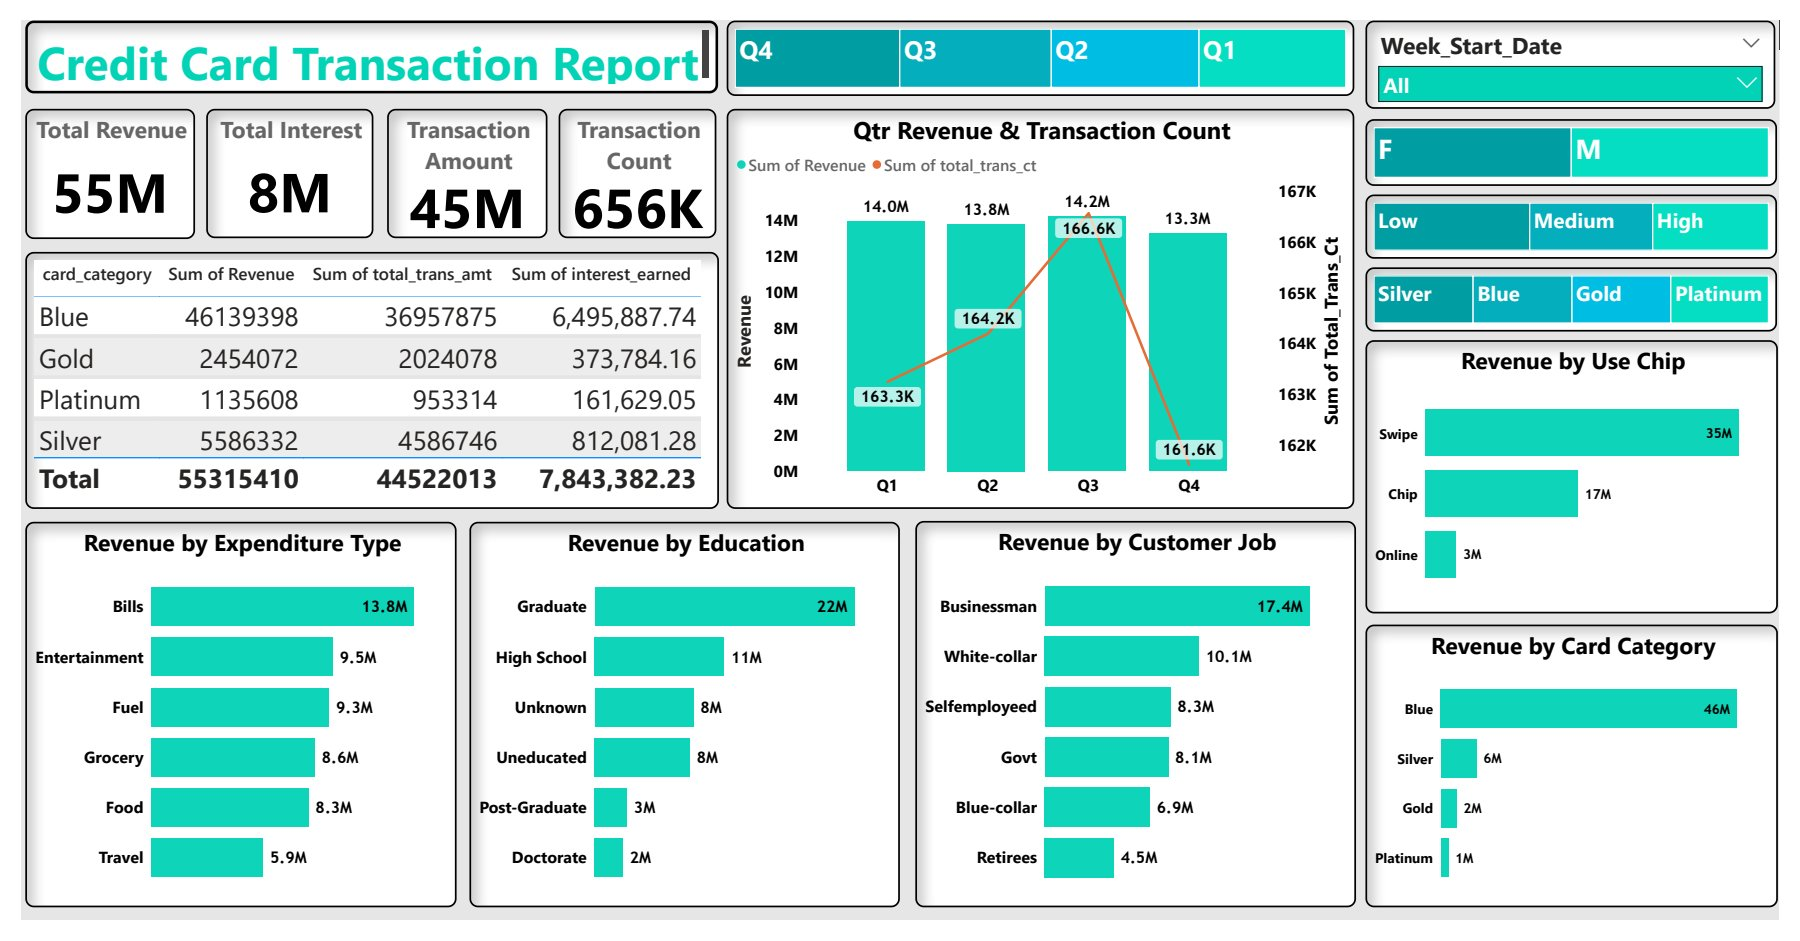

This screenshot's page, from the dashboard's own definition file:
{"tool":"powerbi","page":{"name":"Credit Card Transaction Report","canvas":[2050,1050],"ordinal":0},"visuals":[{"type":"textbox","box":[5,0,807.5,85],"z":0},{"type":"lineStackedColumnComboChart","title":"Qtr Revenue & Transaction Count","fields":{"Category":["public cc_detail.qtr"],"Y":["Sum(public cc_detail.Revenue)"],"Y2":["Sum(public cc_detail.total_trans_ct)"]},"box":[822.5,102.5,732.5,467.5],"z":1000},{"type":"barChart","title":"Revenue by Expenditure Type","fields":{"Y":["Sum(public cc_detail.Revenue)"],"Category":["public cc_detail.exp_type"]},"box":[5,585,502.5,450],"z":2000},{"type":"barChart","title":"Revenue by Education","fields":{"Y":["Sum(public cc_detail.Revenue)"],"Category":["public cust_detail.education_level"]},"box":[522.5,585,502.5,450],"z":3000},{"type":"barChart","title":"Revenue by Customer Job","fields":{"Y":["Sum(public cc_detail.Revenue)"],"Category":["public cust_detail.customer_job"]},"box":[1043.2,583.8,513.5,451.4],"z":4000},{"type":"barChart","title":"Revenue by Card Category","fields":{"Y":["Sum(public cc_detail.Revenue)"],"Category":["public cc_detail.card_category"]},"box":[1567.6,705.4,481.1,329.7],"z":5000},{"type":"barChart","title":"Revenue by Use Chip","fields":{"Y":["Sum(public cc_detail.Revenue)"],"Category":["public cc_detail.use_chip"]},"box":[1567.6,373,481.1,318.9],"z":6000},{"type":"tableEx","fields":{"Values":["public cc_detail.card_category","Sum(public cc_detail.Revenue)","Sum(public cc_detail.total_trans_amt)","Sum(public cc_detail.interest_earned)"]},"box":[5.4,270.3,808.1,300],"z":7000},{"type":"card","title":"Total Revenue","fields":{"Values":["Sum(public cc_detail.Revenue)"]},"box":[5,102.5,197.5,152.5],"z":8000},{"type":"card","title":"Total Interest","fields":{"Values":["Sum(public cc_detail.interest_earned)"]},"box":[216.2,102.7,194.6,151.4],"z":9000},{"type":"card","title":"Transaction Amount","fields":{"Values":["Sum(public cc_detail.total_trans_amt)"]},"box":[427,102.7,186.5,151.4],"z":10000},{"type":"card","title":"Transaction Count","fields":{"Values":["Sum(public cc_detail.total_trans_ct)"]},"box":[627,102.7,183.8,151.4],"z":11000},{"type":"slicer","fields":{"Values":["public cc_detail.week_start_date"]},"box":[1567.6,0,478.4,102.7],"z":12000},{"type":"treemap","fields":{"Group":["public cc_detail.qtr"],"Values":["Avg(public cc_detail.client_num)","select"]},"box":[822.5,0,732.5,87.5],"z":13000},{"type":"treemap","fields":{"Group":["public cust_detail.gender"],"Values":["Avg(public cc_detail.client_num)","select"]},"box":[1567.5,115,480,77.5],"z":14000},{"type":"treemap","fields":{"Group":["public cc_detail.card_category"],"Values":["Avg(public cc_detail.client_num)","select"]},"box":[1567.5,287.5,480,75],"z":15000},{"type":"treemap","fields":{"Group":["public cust_detail.IncomeGroup"],"Values":["Sum(public cc_detail.client_num)","select"]},"box":[1567.5,202.5,480,75],"z":16000}]}

Visuals, with their boxes in screenshot pixels (x1, y1, x2, y2), scaled from the page's 2050x1050 canvas onto the 1800x941 screenshot:
textbox: (4,0,713,76)
"Qtr Revenue & Transaction Count" lineStackedColumnComboChart: (722,92,1365,511)
"Revenue by Expenditure Type" barChart: (4,524,446,928)
"Revenue by Education" barChart: (459,524,900,928)
"Revenue by Customer Job" barChart: (916,523,1367,928)
"Revenue by Card Category" barChart: (1376,632,1799,928)
"Revenue by Use Chip" barChart: (1376,334,1799,620)
tableEx - public cc_detail.card_category x Sum(public cc_detail.Revenue): (5,242,714,511)
"Total Revenue" card: (4,92,178,229)
"Total Interest" card: (190,92,361,228)
"Transaction Amount" card: (375,92,539,228)
"Transaction Count" card: (551,92,712,228)
slicer - public cc_detail.week_start_date: (1376,0,1796,92)
treemap - public cc_detail.qtr x Avg(public cc_detail.client_num): (722,0,1365,78)
treemap - public cust_detail.gender x Avg(public cc_detail.client_num): (1376,103,1798,173)
treemap - public cc_detail.card_category x Avg(public cc_detail.client_num): (1376,258,1798,325)
treemap - public cust_detail.IncomeGroup x Sum(public cc_detail.client_num): (1376,181,1798,249)
